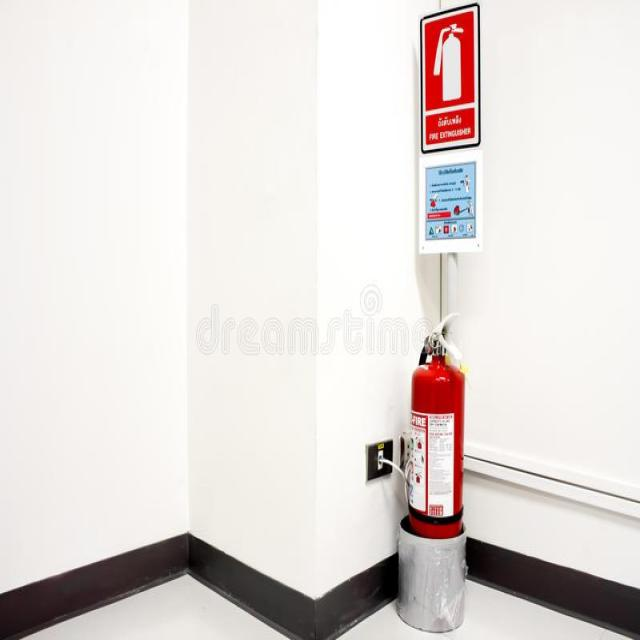fire_extinguisher: (399, 304, 474, 618)
